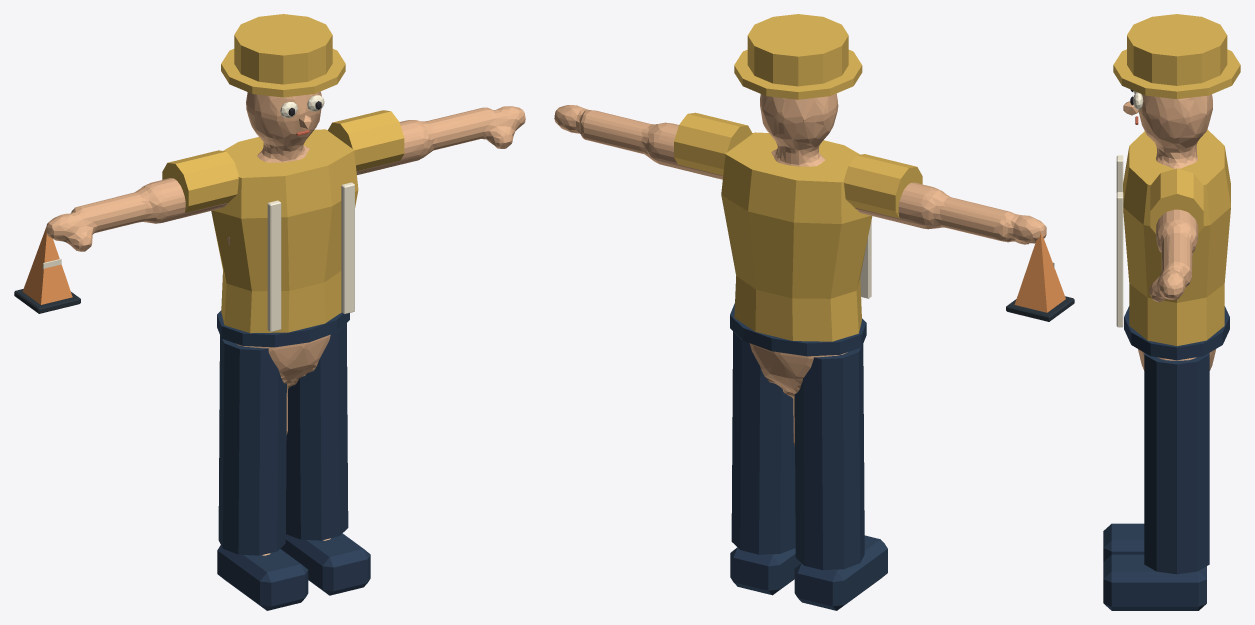
The model's file is Disguise_Construction.fbx.
3 renders of one model, left to right at view 1: azimuth 30°, elevation 25°; view 2: azimuth 150°, elevation 25°; view 3: azimuth 270°, elevation 25°, orthographic. The views are drawn at different scales.
Visible parts, largest first — view 1: Disguise_Construction_Wearer_Shirt, Disguise_Construction_Wearer_Civilian_01_Base_BaseMale_TPose, Disguise_Construction_Wearer_PantsLeg, Disguise_Construction_Wearer_PantsLeg.001, Helmet, Disguise_Construction_Wearer_Shoe, Disguise_Construction_Wearer_Shoe.001, Disguise_Construction_Wearer_Sleeve, Disguise_Construction_Wearer_Sleeve.001, HelmetBrim, CarriedCone_Cone, Disguise_Construction_Wearer_Belt (+2 smaller); view 2: Disguise_Construction_Wearer_Shirt, Disguise_Construction_Wearer_Civilian_01_Base_BaseMale_TPose, Disguise_Construction_Wearer_PantsLeg, Disguise_Construction_Wearer_PantsLeg.001, Helmet, Disguise_Construction_Wearer_Shoe, Disguise_Construction_Wearer_Sleeve, Disguise_Construction_Wearer_Sleeve.001, Disguise_Construction_Wearer_Shoe.001, HelmetBrim, CarriedCone_Cone, Disguise_Construction_Wearer_Belt (+1 smaller); view 3: Disguise_Construction_Wearer_PantsLeg.001, Disguise_Construction_Wearer_Shirt, Disguise_Construction_Wearer_Civilian_01_Base_BaseMale_TPose, Helmet, Disguise_Construction_Wearer_Shoe.001, Disguise_Construction_Wearer_Sleeve.001, HelmetBrim, Disguise_Construction_Wearer_Belt, Disguise_Construction_Wearer_Shoe, ReflectiveStripe.001, ReflectiveStripe.
Part boxes in pixels (x1,y1,x2,y2): Disguise_Construction_Wearer_Shirt: (211,129,358,333); Disguise_Construction_Wearer_Civilian_01_Base_BaseMale_TPose: (46,91,525,555); Disguise_Construction_Wearer_PantsLeg: (218,335,286,555); Disguise_Construction_Wearer_PantsLeg.001: (286,323,348,540); Helmet: (234,14,332,84); Disguise_Construction_Wearer_Shoe: (217,545,308,610); Disguise_Construction_Wearer_Shoe.001: (280,533,370,595); Disguise_Construction_Wearer_Sleeve: (162,150,238,212); Disguise_Construction_Wearer_Sleeve.001: (328,110,404,171); HelmetBrim: (221,49,345,97); CarriedCone_Cone: (22,226,72,304); Disguise_Construction_Wearer_Belt: (217,310,349,347); Disguise_Construction_Wearer_Shirt: (721,132,872,341); Disguise_Construction_Wearer_Civilian_01_Base_BaseMale_TPose: (554,93,1046,446); Disguise_Construction_Wearer_PantsLeg: (794,344,864,570); Disguise_Construction_Wearer_PantsLeg.001: (731,331,795,554); Helmet: (747,14,848,86); Disguise_Construction_Wearer_Shoe: (794,535,887,610); Disguise_Construction_Wearer_Sleeve: (843,154,922,218); Disguise_Construction_Wearer_Sleeve.001: (674,112,752,175); Disguise_Construction_Wearer_Shoe.001: (730,547,800,595); HelmetBrim: (734,49,862,99); CarriedCone_Cone: (1014,232,1065,312); Disguise_Construction_Wearer_Belt: (730,303,866,356); Disguise_Construction_Wearer_PantsLeg.001: (1144,353,1209,574); Disguise_Construction_Wearer_Shirt: (1123,129,1230,345); Disguise_Construction_Wearer_Civilian_01_Base_BaseMale_TPose: (1138,94,1215,370); Helmet: (1127,14,1227,85); Disguise_Construction_Wearer_Shoe.001: (1103,554,1206,610); Disguise_Construction_Wearer_Sleeve.001: (1150,168,1203,233); HelmetBrim: (1113,49,1240,98); Disguise_Construction_Wearer_Belt: (1124,306,1229,360); Disguise_Construction_Wearer_Shoe: (1103,523,1144,561); ReflectiveStripe.001: (1116,192,1123,327); ReflectiveStripe: (1116,155,1123,192).
Bounding box in the file's own units: 1.75 × 1.83 × 0.41.
